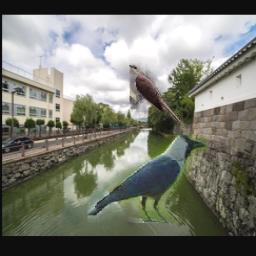Crow: (87, 135, 208, 223)
Cuckoo: (129, 63, 186, 131)
